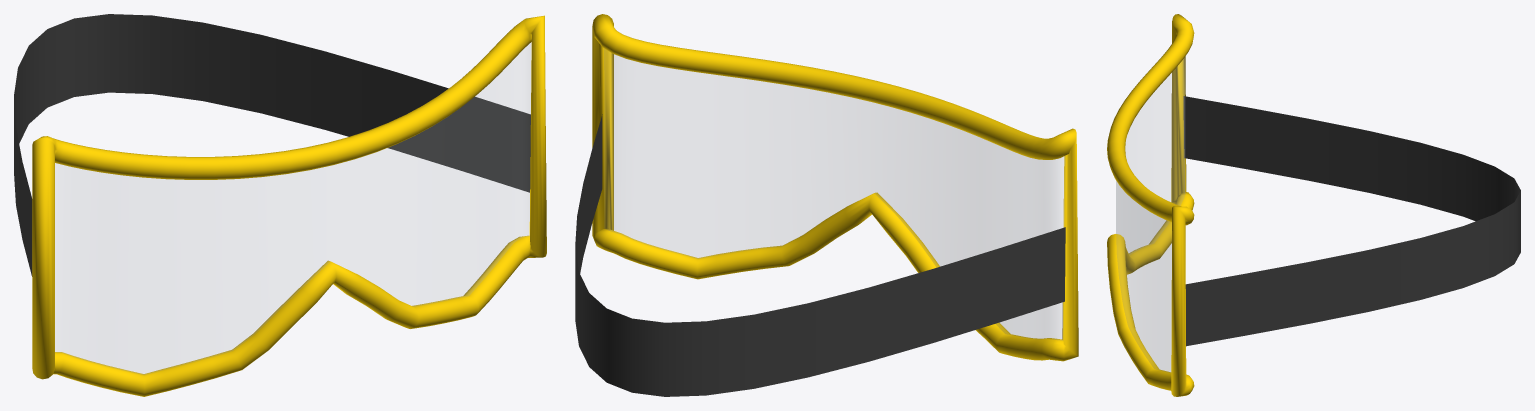
The model's file is safety_goggles.glb.
3 renders of one model, left to right at view 1: azimuth 30°, elevation 25°; view 2: azimuth 150°, elevation 25°; view 3: azimuth 270°, elevation 25°, orthographic. The views are drawn at different scales.
Visible parts, largest first — view 1: Goggle_Lens, Goggle_Strap, Goggle_Frame; view 2: Goggle_Lens, Goggle_Strap, Goggle_Frame; view 3: Goggle_Strap, Goggle_Frame, Goggle_Lens.
Part boxes in pixels (bbox=[...]): Goggle_Lens: bbox=[55, 43, 531, 374]; Goggle_Strap: bbox=[14, 14, 530, 276]; Goggle_Frame: bbox=[32, 15, 546, 396]; Goggle_Lens: bbox=[604, 49, 1065, 340]; Goggle_Strap: bbox=[575, 114, 1065, 396]; Goggle_Frame: bbox=[592, 14, 1078, 361]; Goggle_Strap: bbox=[1183, 96, 1520, 346]; Goggle_Frame: bbox=[1107, 14, 1194, 396]; Goggle_Lens: bbox=[1116, 57, 1184, 372].
Bounding box in the file's own units: 0.2047 × 0.1024 × 0.1815.
